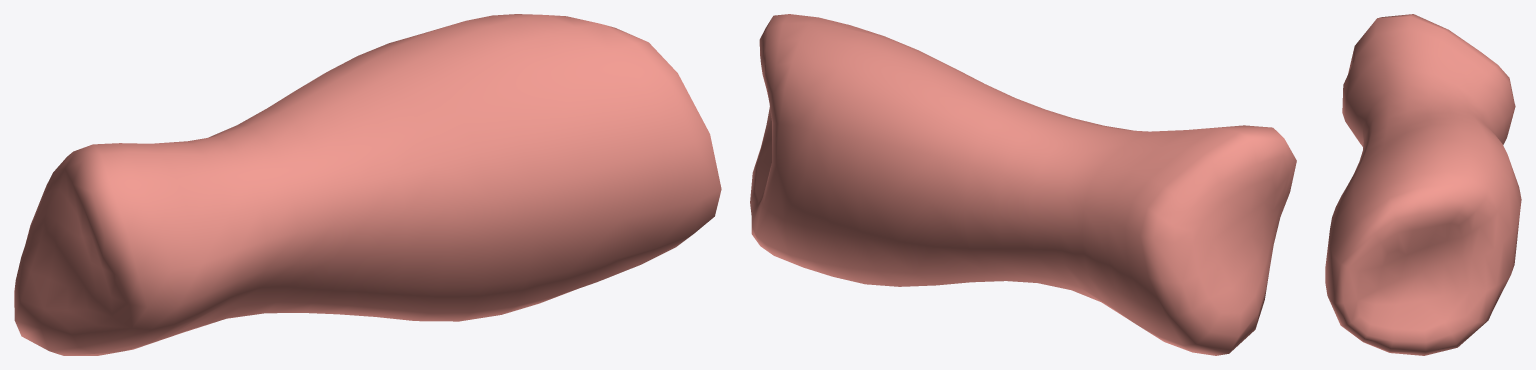
Rendered from mixamo_humanoid_surface_rightArm.fbx.
3 renders of one model, left to right at view 1: azimuth 30°, elevation 25°; view 2: azimuth 150°, elevation 25°; view 3: azimuth 270°, elevation 25°, orthographic. The views are drawn at different scales.
Parts seen in each view (by area): view 1: surface_RightArm; view 2: surface_RightArm; view 3: surface_RightArm.
Part boxes in pixels (x1=…): surface_RightArm: x1=14, y1=14, x2=721, y2=355; surface_RightArm: x1=750, y1=14, x2=1296, y2=355; surface_RightArm: x1=1325, y1=14, x2=1521, y2=355.
Size of the model in its own units: 28.56 by 11.87 by 11.31.
